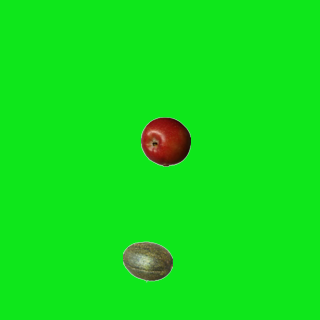Apple Braeburn: (140, 116, 190, 166)
Melon Piel de Sapo: (122, 236, 172, 286)
